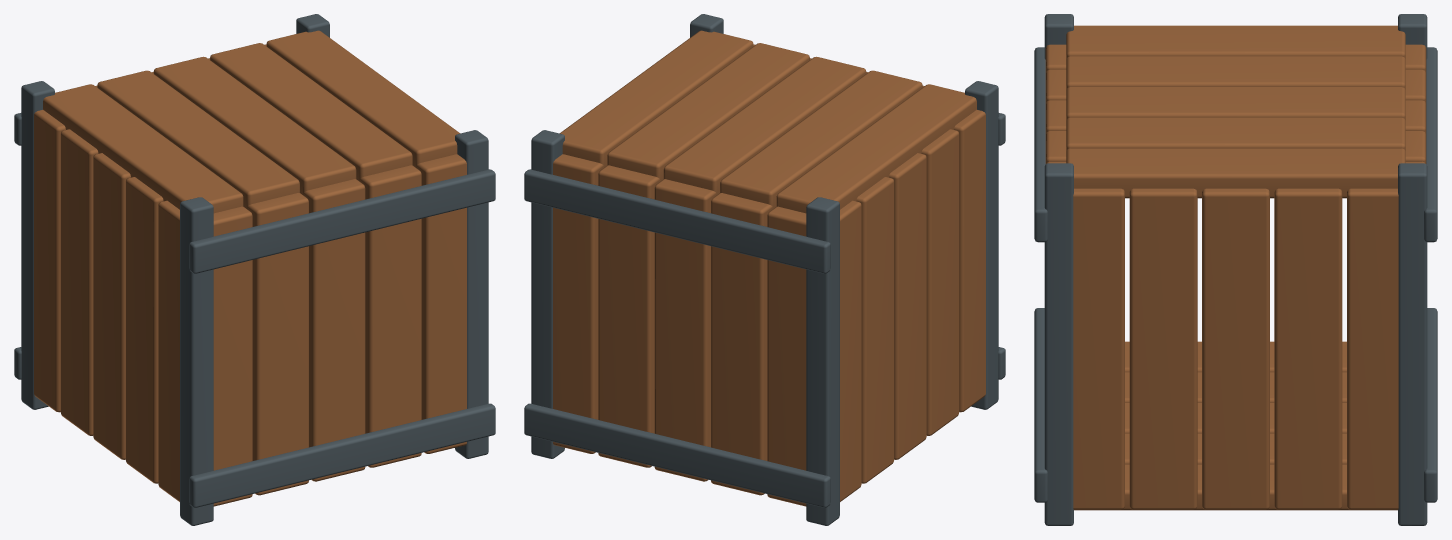
The model's file is asset.glb.
3 renders of one model, left to right at view 1: azimuth 30°, elevation 25°; view 2: azimuth 150°, elevation 25°; view 3: azimuth 270°, elevation 25°, orthographic. The views are drawn at different scales.
Parts seen in each view (by area): view 1: Side plank.002, Side plank.004, Side plank.006, Side plank.008, Reinforcement.002, Reinforcement, End plank.006, End plank.002, End plank.004, Lid plank, Metal corner, Side plank (+9 smaller); view 2: Side plank.003, Side plank.005, Side plank.007, Side plank.009, Reinforcement.003, Reinforcement.001, End plank.002, End plank.006, End plank.004, Lid plank, Metal corner.001, Side plank.001 (+9 smaller); view 3: End plank.003, End plank.007, End plank.005, End plank.001, End plank.009, Lid plank.004, Lid plank, Metal corner.002, Metal corner.003, Lid plank.001, Lid plank.003, Lid plank.002 (+19 smaller).
Part boxes in pixels (left/top/right/bottom): Side plank.002: left=247, top=193, right=308, bottom=495; Side plank.004: left=303, top=179, right=365, bottom=481; Side plank.006: left=360, top=165, right=421, bottom=467; Side plank.008: left=416, top=154, right=466, bottom=453; Reinforcement.002: left=189, top=169, right=495, bottom=273; Reinforcement: left=189, top=403, right=495, bottom=507; End plank.006: left=60, top=129, right=98, bottom=435; End plank.002: left=125, top=177, right=163, bottom=483; End plank.004: left=93, top=153, right=130, bottom=459; Lid plank: left=43, top=84, right=243, bottom=213; Metal corner: left=180, top=197, right=213, bottom=525; Side plank: left=213, top=206, right=252, bottom=506; Side plank.003: left=711, top=193, right=772, bottom=495; Side plank.005: left=654, top=179, right=716, bottom=481; Side plank.007: left=598, top=165, right=659, bottom=467; Side plank.009: left=553, top=154, right=603, bottom=453; Reinforcement.003: left=524, top=169, right=830, bottom=273; Reinforcement.001: left=524, top=403, right=830, bottom=507; End plank.002: left=921, top=129, right=959, bottom=435; End plank.006: left=856, top=177, right=894, bottom=483; End plank.004: left=889, top=153, right=926, bottom=459; Lid plank: left=776, top=84, right=976, bottom=213; Metal corner.001: left=806, top=197, right=839, bottom=525; Side plank.001: left=767, top=206, right=806, bottom=506; End plank.003: left=1129, top=188, right=1197, bottom=509; End plank.007: left=1274, top=188, right=1342, bottom=509; End plank.005: left=1202, top=188, right=1269, bottom=509; End plank.001: left=1073, top=188, right=1124, bottom=509; End plank.009: left=1347, top=188, right=1398, bottom=509; Lid plank.004: left=1066, top=148, right=1405, bottom=198; Lid plank: left=1066, top=25, right=1405, bottom=58; Metal corner.002: left=1044, top=163, right=1073, bottom=525; Metal corner.003: left=1398, top=163, right=1427, bottom=525; Lid plank.001: left=1066, top=56, right=1405, bottom=89; Lid plank.003: left=1066, top=117, right=1405, bottom=150; Lid plank.002: left=1066, top=87, right=1405, bottom=120.
Size of the model in its own units: 1.72 by 1.72 by 1.78.
